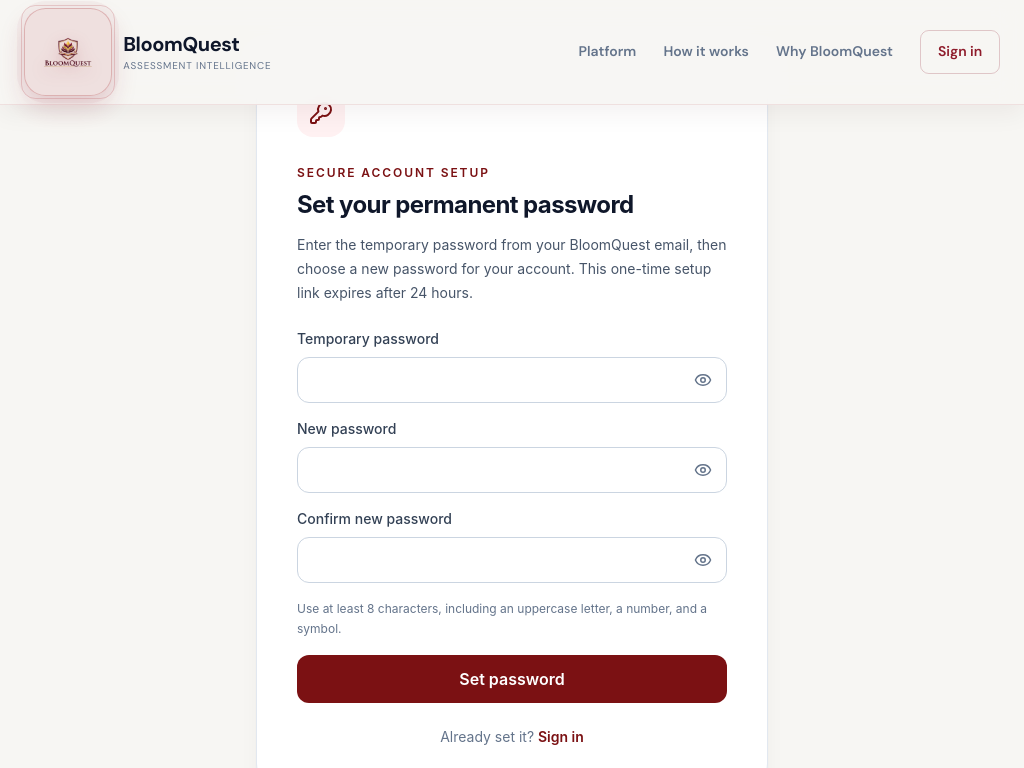
Test case: faculty can set a permanent password using the email token and temporary password
Type "FacultyPassword1!" into the password field labelled "Temporary password" at (512, 380), box [297,357,727,403]
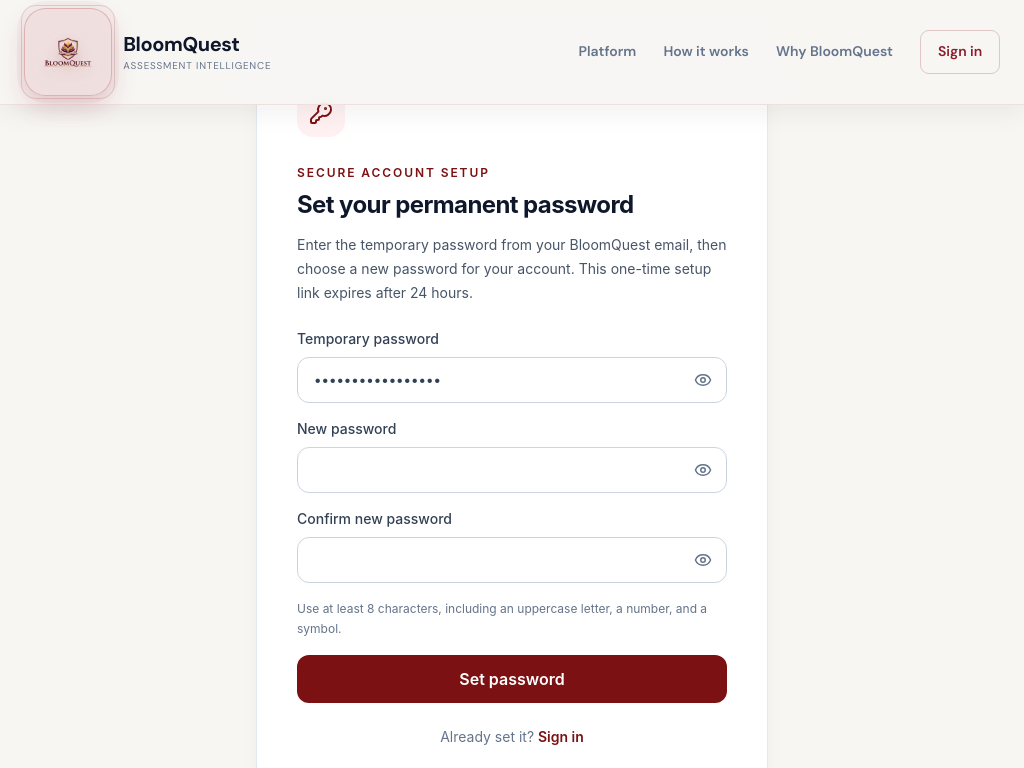
Type "PermanentPassword2!" into the password field labelled "New password" at (512, 470), box [297,447,727,493]
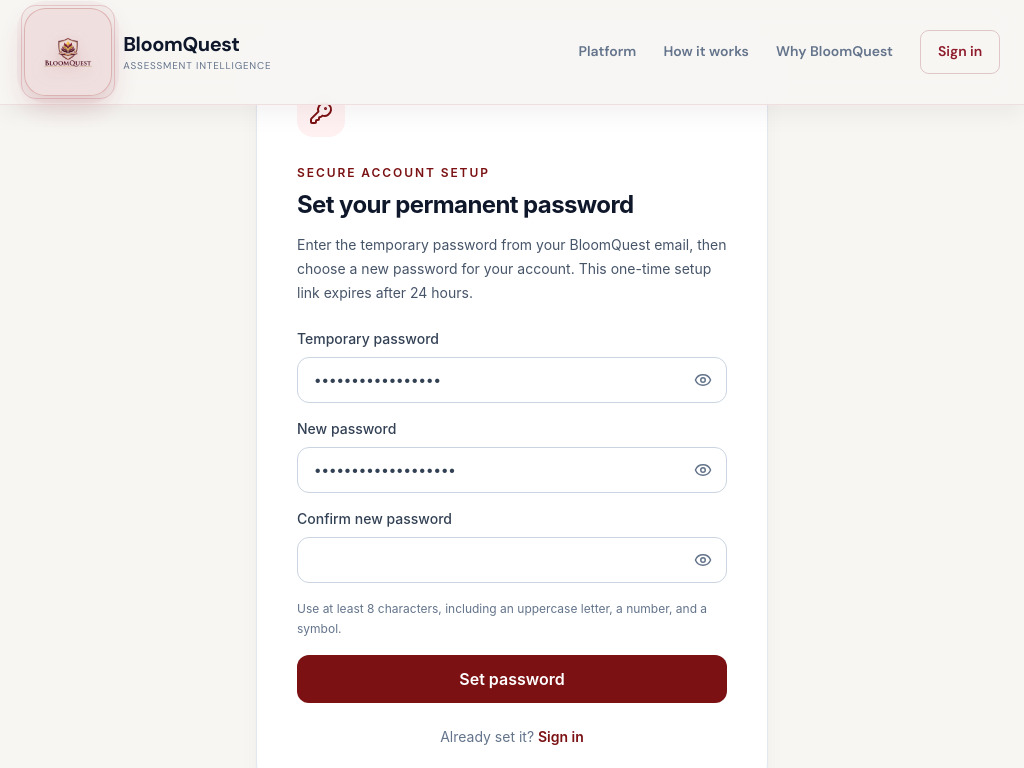
Type "PermanentPassword2!" into the password field labelled "Confirm new password" at (512, 560), box [297,537,727,583]
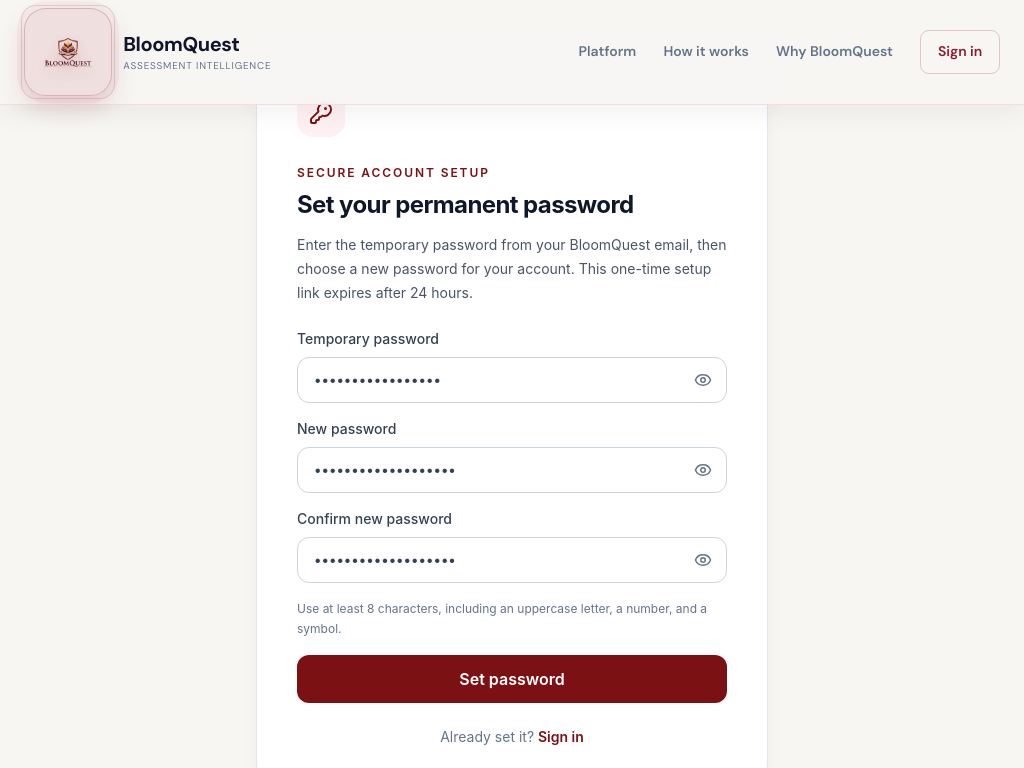
Click the button "Set password" at (512, 679), box [297,655,727,703]
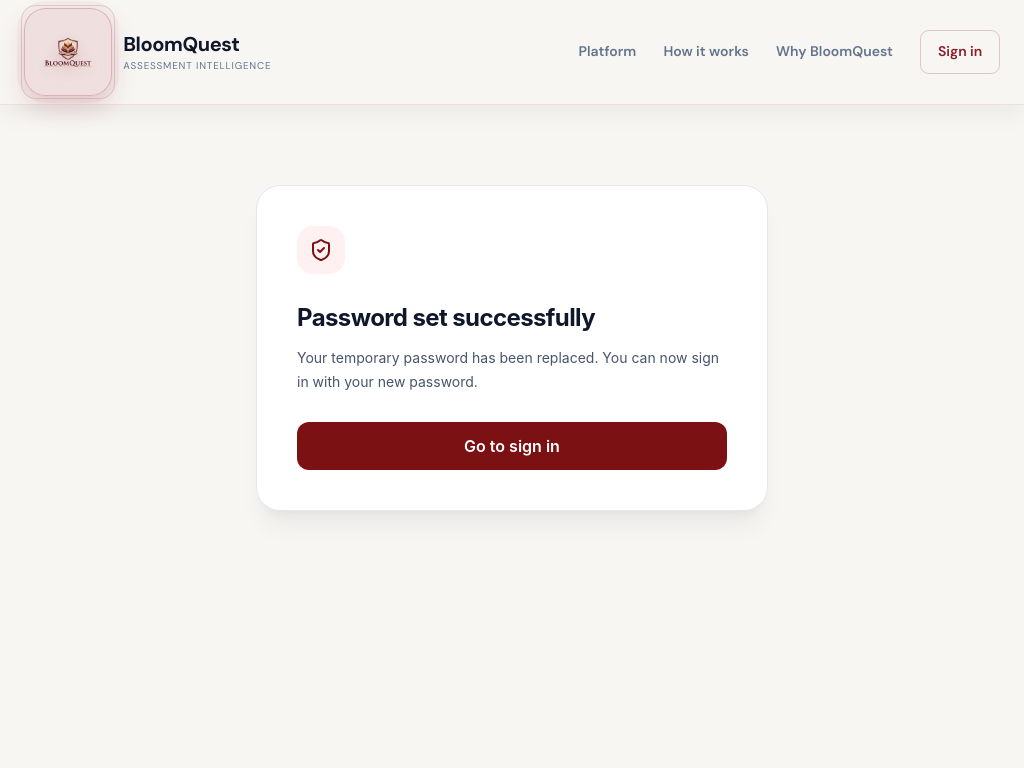
Now the heading "Password set successfully" is shown, box [297,303,595,332]
